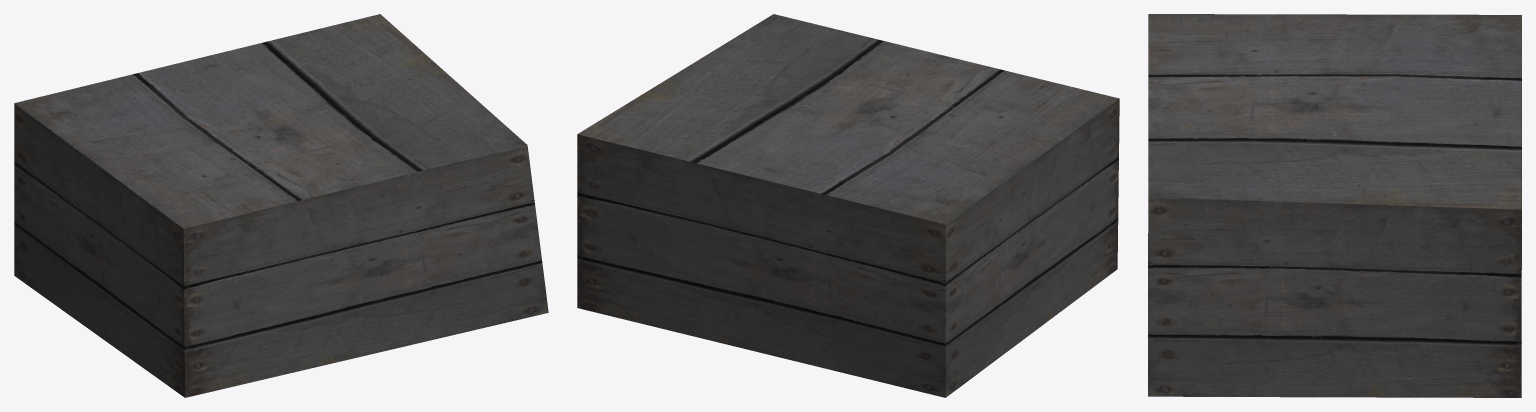
The model's file is Crate02damaged_LOD03.fbx.
3 views of the same model, side by side, from view 1: azimuth 30°, elevation 25°; view 2: azimuth 150°, elevation 25°; view 3: azimuth 270°, elevation 25° (orthographic). The views are drawn at different scales.
Parts seen in each view (by area): view 1: Default_Layer; view 2: Default_Layer; view 3: Default_Layer.
Part boxes in pixels (bbox=[...]): Default_Layer: bbox=[14, 14, 548, 397]; Default_Layer: bbox=[577, 14, 1119, 397]; Default_Layer: bbox=[1148, 14, 1521, 397].
Bounding box in the file's own units: 62.78 × 28.19 × 50.67.
